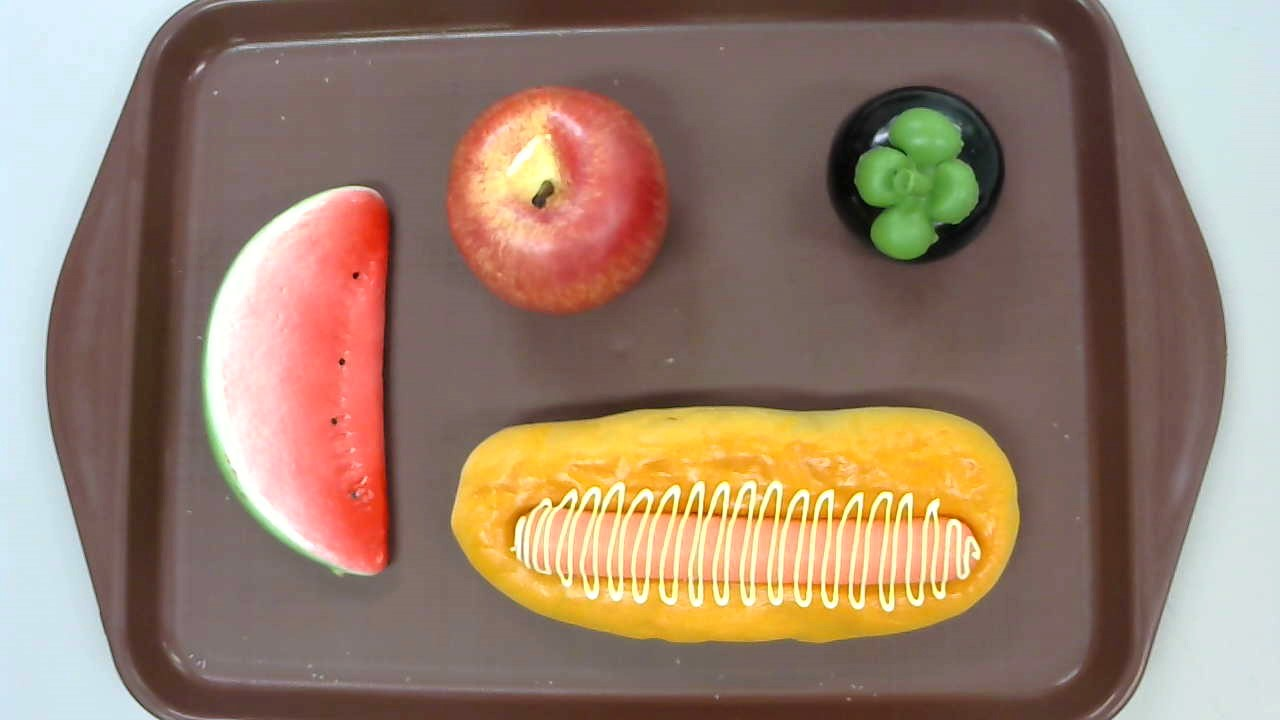hot dog: (449, 404, 1021, 647)
mangosteen: (825, 83, 1007, 267)
red apple: (445, 84, 668, 316)
water melon: (198, 184, 391, 579)
